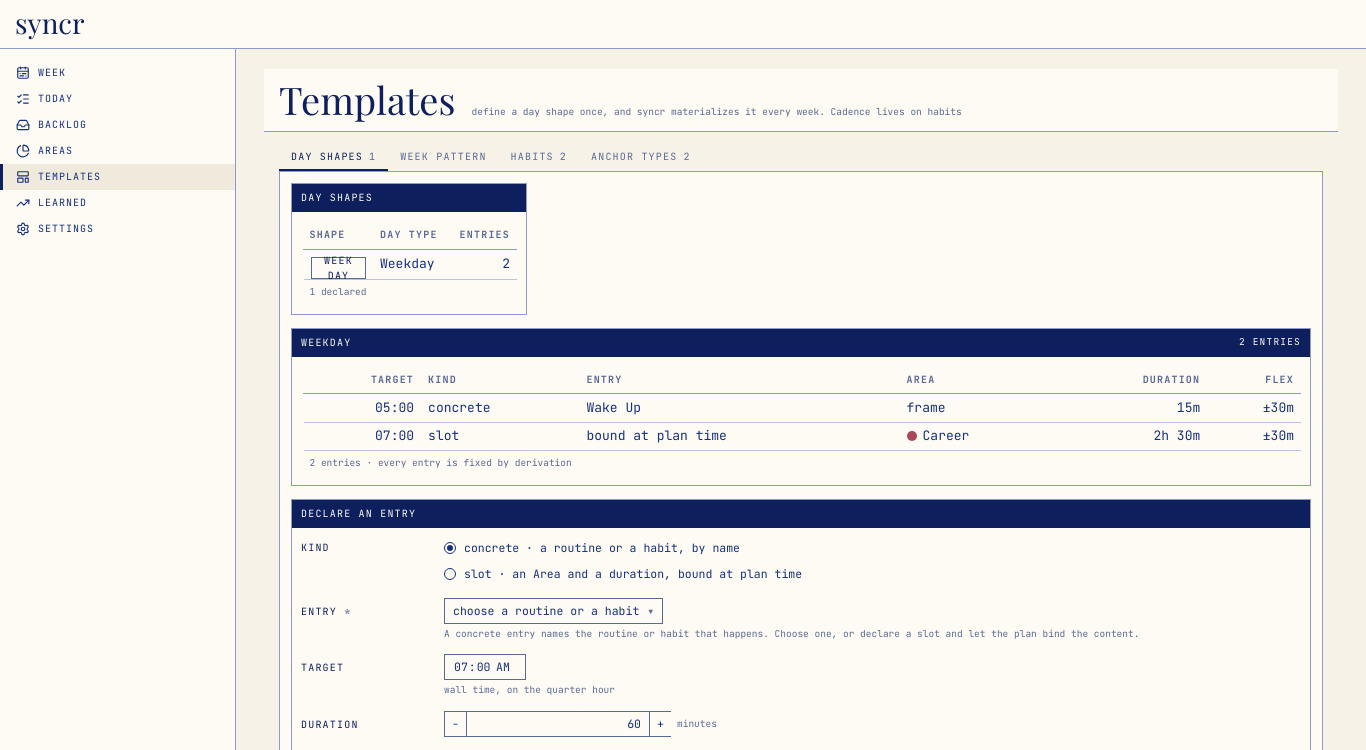
Test: the templates route › shows the week pattern's seven rows once that tab is chosen
Click the tab "Week pattern" at (443, 158), box 388,145 -> 499,171
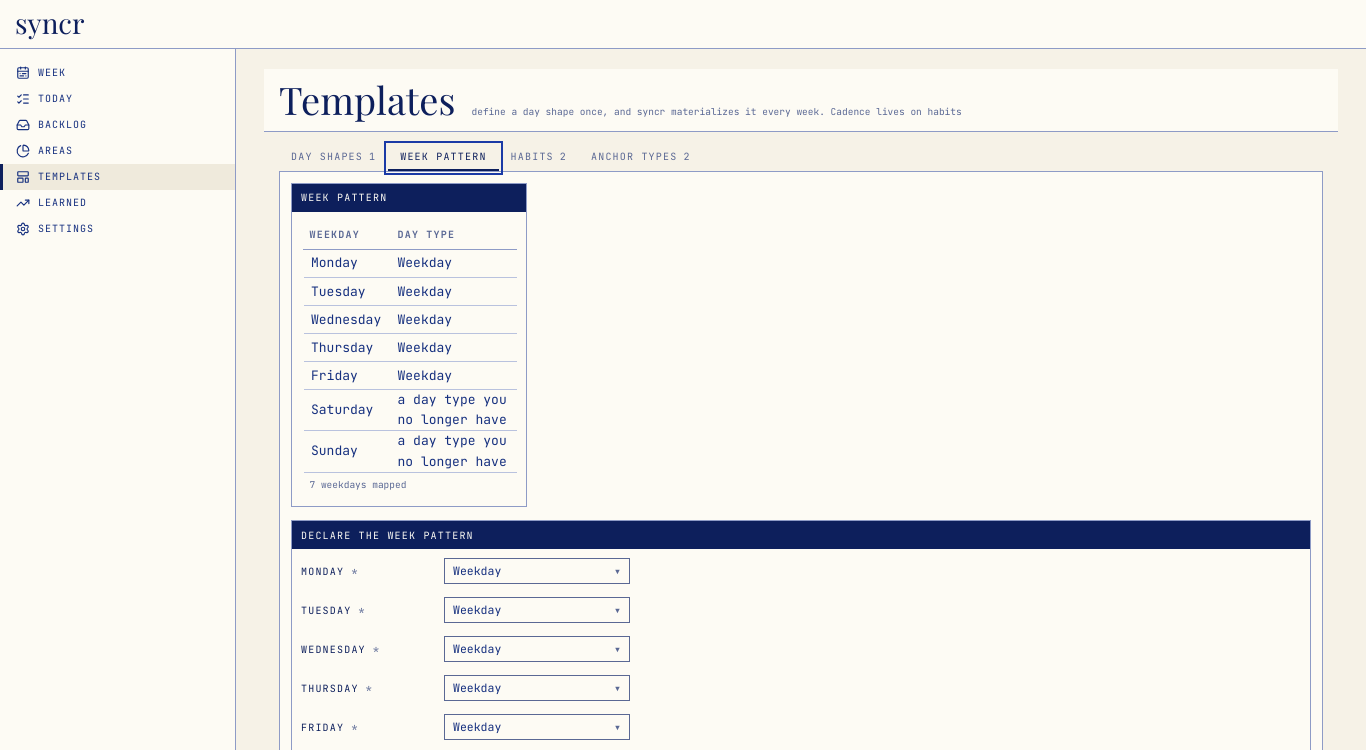
Expected: the number of rows is 9
